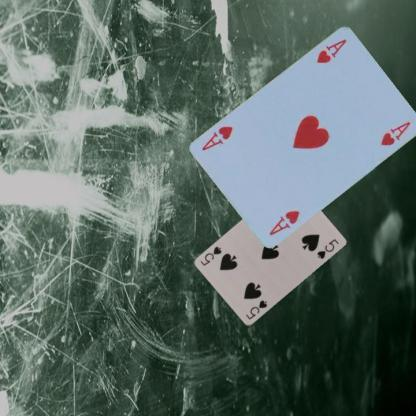5s: (242, 298, 268, 321)
Ah: (266, 207, 301, 237), (314, 36, 348, 65)
